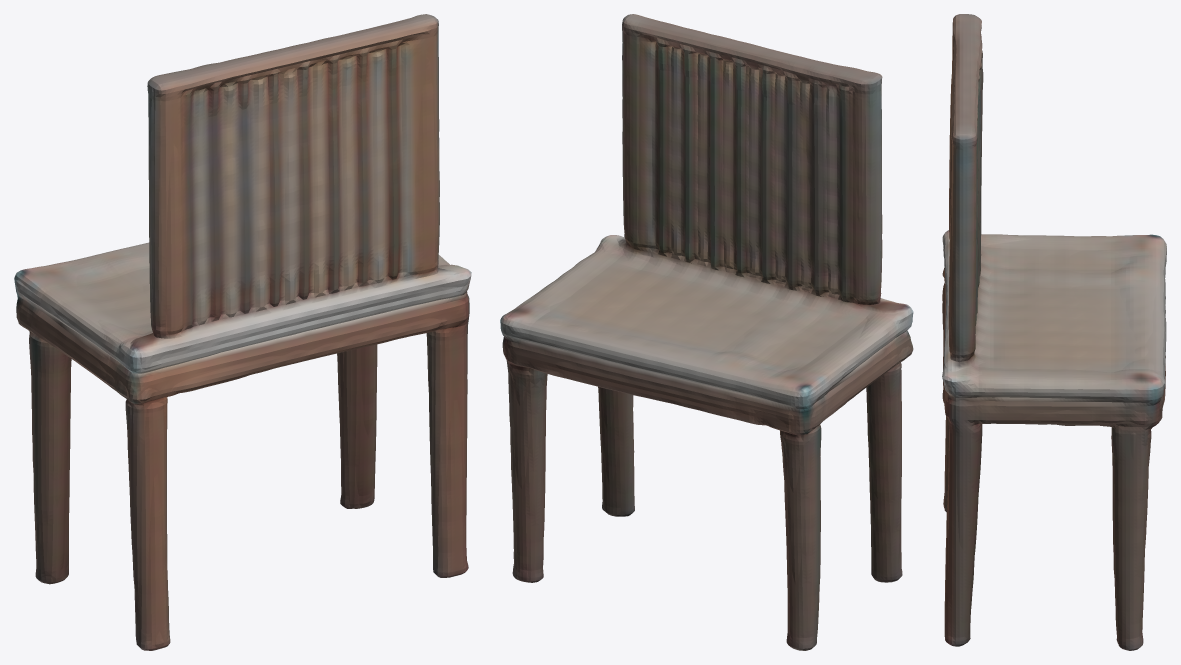
Rendered from chair_seed2.glb.
3 renders of one model, left to right at view 1: azimuth 30°, elevation 25°; view 2: azimuth 150°, elevation 25°; view 3: azimuth 270°, elevation 25°, orthographic. The views are drawn at different scales.
Visible parts, largest first — view 1: geometry_0; view 2: geometry_0; view 3: geometry_0.
Part boxes in pixels (left/top/right/bottom): geometry_0: left=14, top=14, right=471, bottom=650; geometry_0: left=500, top=14, right=913, bottom=650; geometry_0: left=942, top=14, right=1166, bottom=650.
Bounding box in the file's own units: 0.6442 × 1 × 0.4025.
